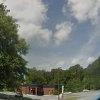Tree: (2, 0, 29, 78)
